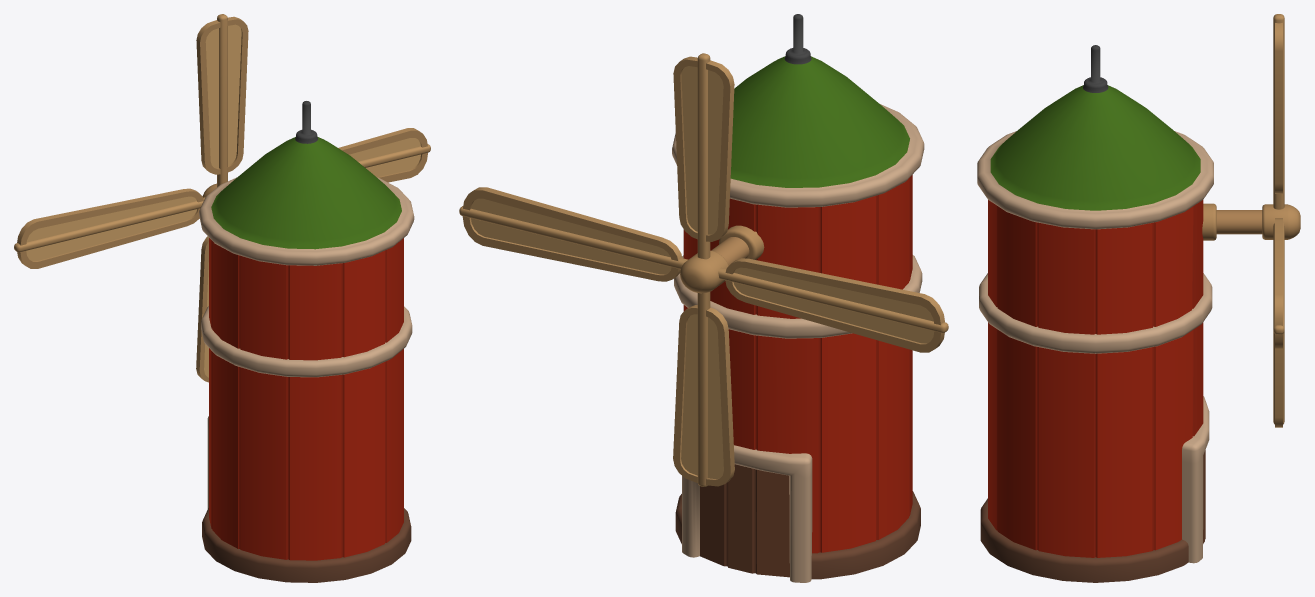
Rendered from Building8.fbx.
The picture shows the model from 3 angles, left to right: view 1: azimuth 30°, elevation 25°; view 2: azimuth 150°, elevation 25°; view 3: azimuth 270°, elevation 25°; orthographic projection. The views are drawn at different scales.
Parts seen in each view (by area): view 1: Cylinder.007, Cube.005; view 2: Cylinder.007, Cube.005; view 3: Cylinder.007, Cube.005.
Part boxes in pixels (left/top/right/bottom): Cylinder.007: left=199, top=101, right=414, bottom=582; Cube.005: left=14, top=14, right=430, bottom=382; Cylinder.007: left=672, top=14, right=924, bottom=582; Cube.005: left=459, top=53, right=948, bottom=486; Cylinder.007: left=977, top=45, right=1300, bottom=582; Cube.005: left=1273, top=14, right=1284, bottom=427.
Size of the model in its own units: 15.46 by 9.37 by 16.55.
